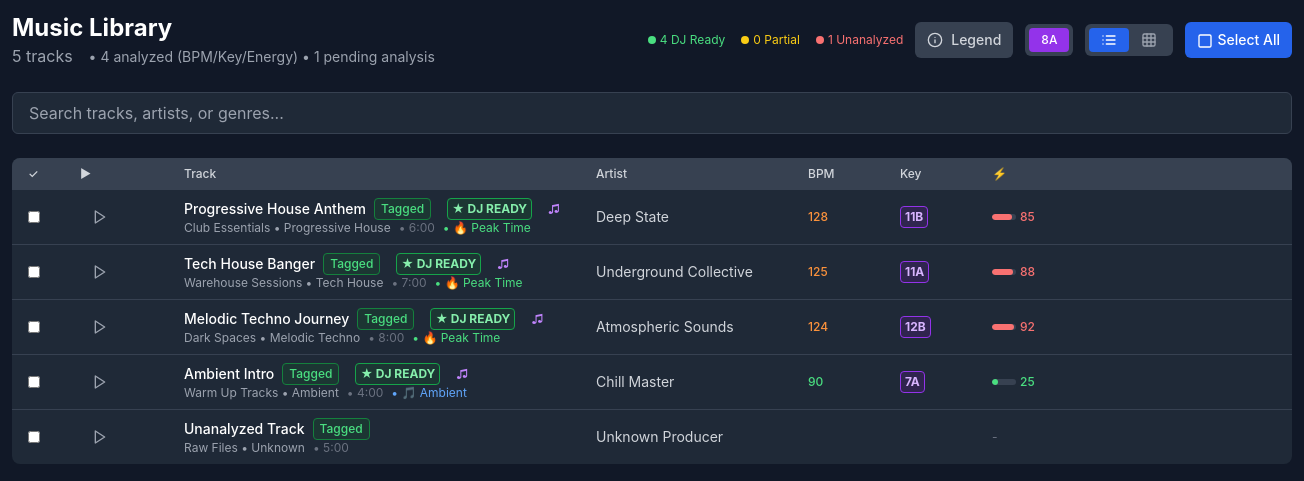
it: LibraryView DJ Features › Harmonic Mixing Analysis › toggles between musical and Camelot notation
Expected: the text "11B" is shown, [900,206,928,228]
Toggle to musical notation
Click the button titled "Switch to Musical keys": {"x": 1049, "y": 40} [1029,28,1070,52]
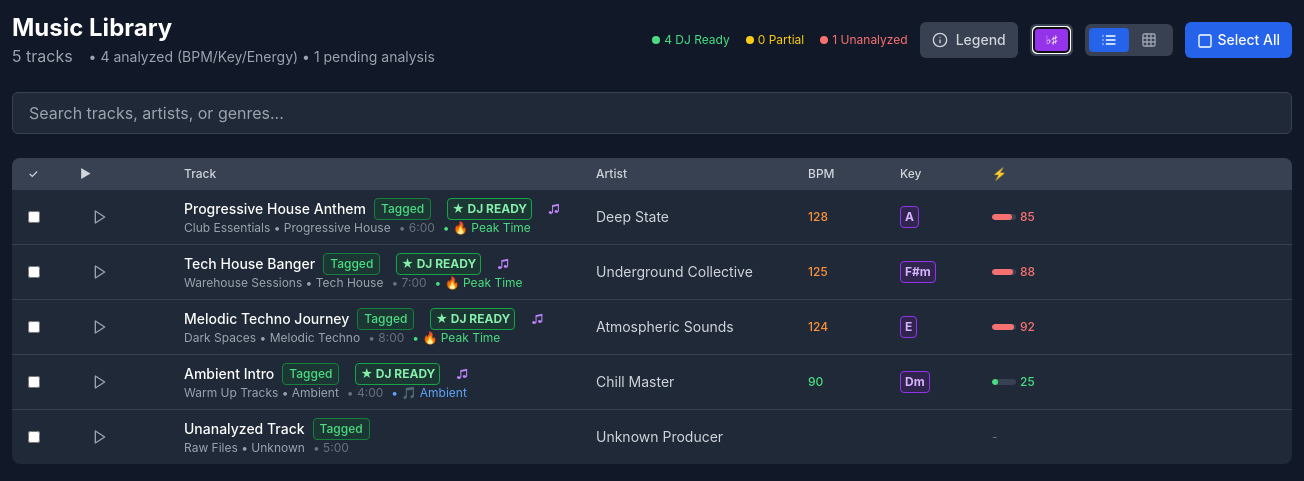
Expected: the text "A" is shown, [900,206,919,228]
Expected: the text "F#m" is shown, [900,261,936,283]
Expected: the text "Dm" is shown, [900,371,930,393]
